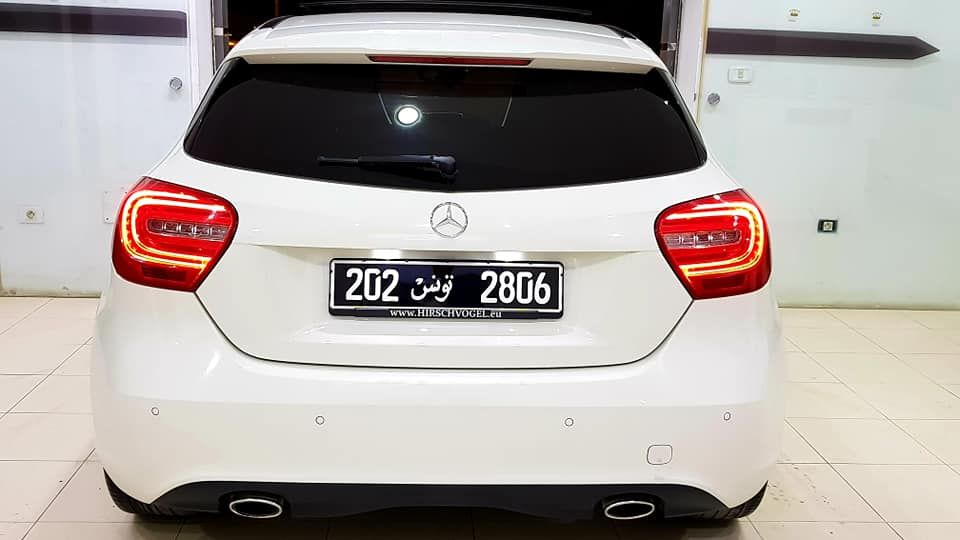LP: (331, 260, 563, 312)
